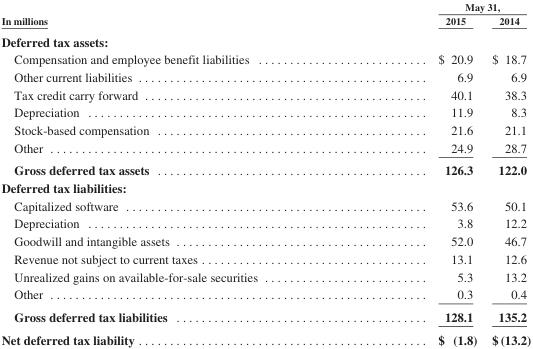table: (0, 0, 530, 346)
table column: (0, 0, 347, 346), (347, 0, 483, 346), (483, 0, 530, 346)
table column header: (0, 0, 530, 30)
table projected row header: (0, 30, 530, 50), (0, 178, 530, 196)
table row: (0, 305, 530, 327), (0, 30, 530, 50), (0, 138, 530, 158), (0, 158, 530, 178), (0, 285, 530, 305), (0, 327, 530, 346), (0, 67, 530, 85), (0, 85, 530, 103), (0, 120, 530, 138), (0, 178, 530, 196), (0, 196, 530, 214), (0, 214, 530, 232), (0, 249, 530, 267), (0, 267, 530, 285), (0, 13, 530, 30), (0, 50, 530, 67), (0, 103, 530, 120), (0, 232, 530, 249), (0, 0, 530, 13)
table spanning cell: (0, 0, 347, 30), (347, 0, 530, 13)
